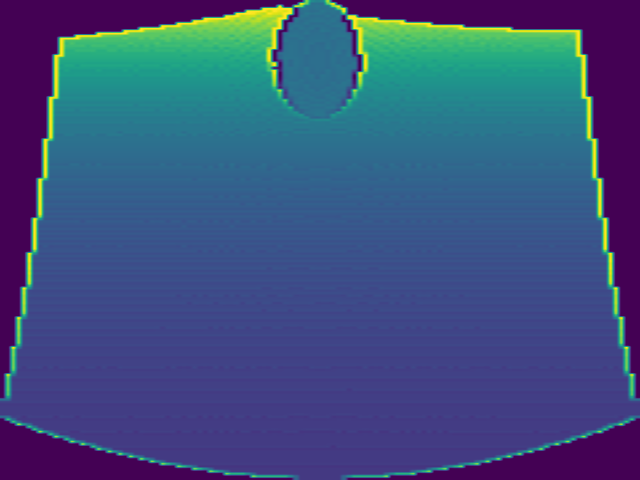sphere: (269, 1, 367, 121)
